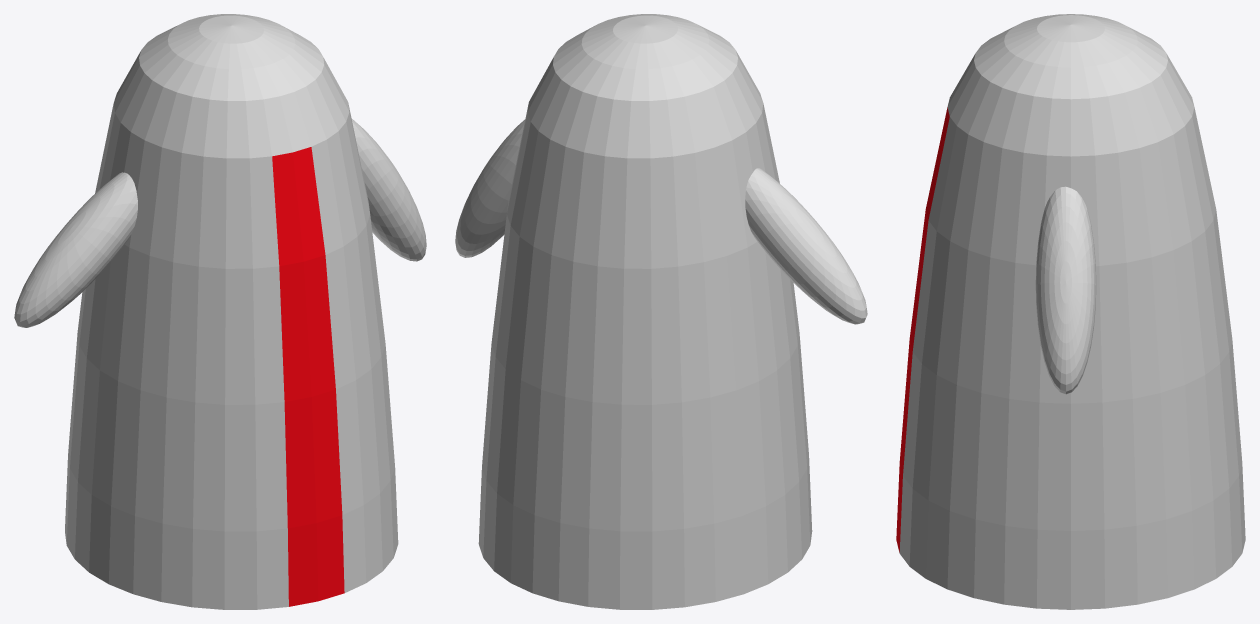
The model's file is character_body.fbx.
3 views of the same model, side by side, from view 1: azimuth 30°, elevation 25°; view 2: azimuth 150°, elevation 25°; view 3: azimuth 270°, elevation 25° (orthographic).
Visible parts, largest first — view 1: Sphere.006; view 2: Sphere.006; view 3: Sphere.006.
Part boxes in pixels (x1,y1,x2,y2): Sphere.006: (14, 14, 426, 609); Sphere.006: (455, 14, 867, 609); Sphere.006: (896, 14, 1245, 609).
Size of the model in its own units: 240 by 287 by 176.
